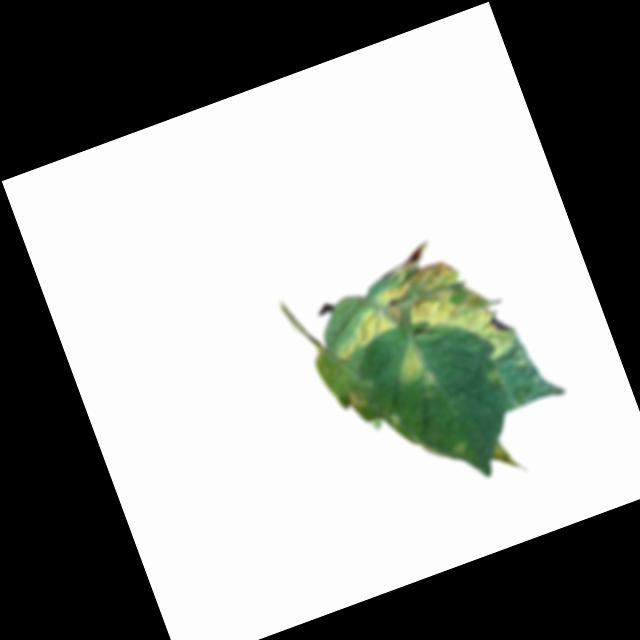Leaf_Mold: (386, 220, 522, 384), (319, 276, 424, 361), (387, 337, 439, 399), (485, 432, 534, 485), (340, 383, 368, 415)
